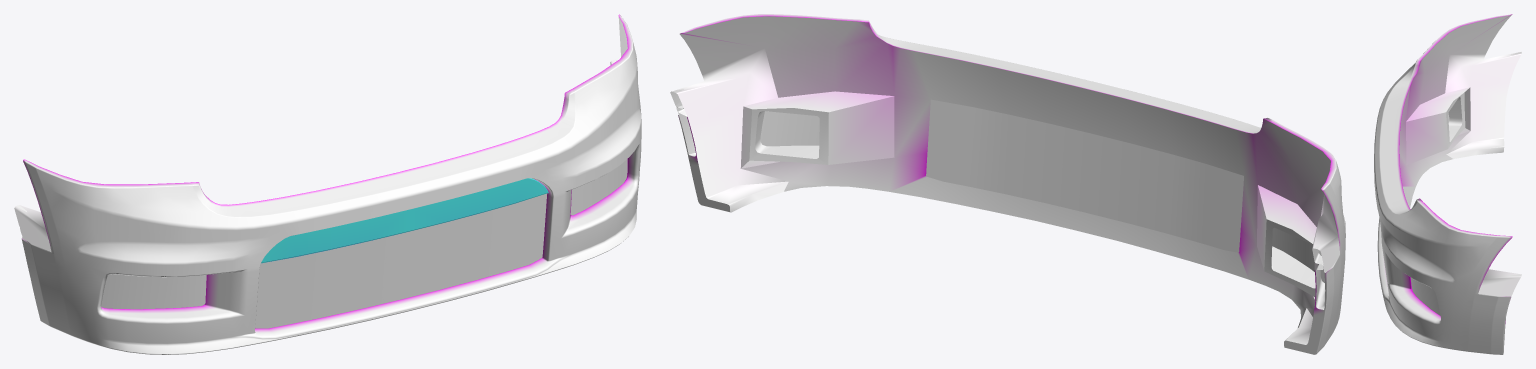
Rendered from Car_Mini_CountrymanJCW_2017_BumperF_SetD_AltA.fbx.
The picture shows the model from 3 angles, left to right: view 1: azimuth 30°, elevation 25°; view 2: azimuth 150°, elevation 25°; view 3: azimuth 270°, elevation 25°; orthographic projection. The views are drawn at different scales.
Visible parts, largest first — view 1: BumperF 6; view 2: BumperF 6; view 3: BumperF 6.
Boxes of the visible parts, bbox=[...] form: BumperF 6: bbox=[14, 14, 641, 354]; BumperF 6: bbox=[670, 14, 1345, 354]; BumperF 6: bbox=[1374, 14, 1521, 354].
Size of the model in its own units: 1.76 by 0.4511 by 0.4884.
